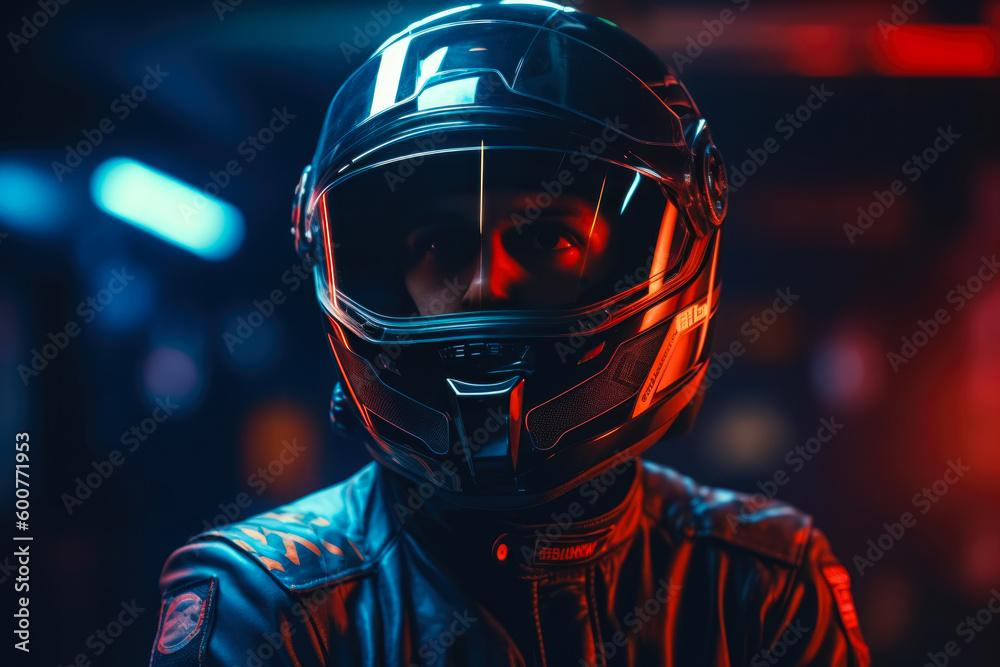helmet: (290, 0, 731, 514)
